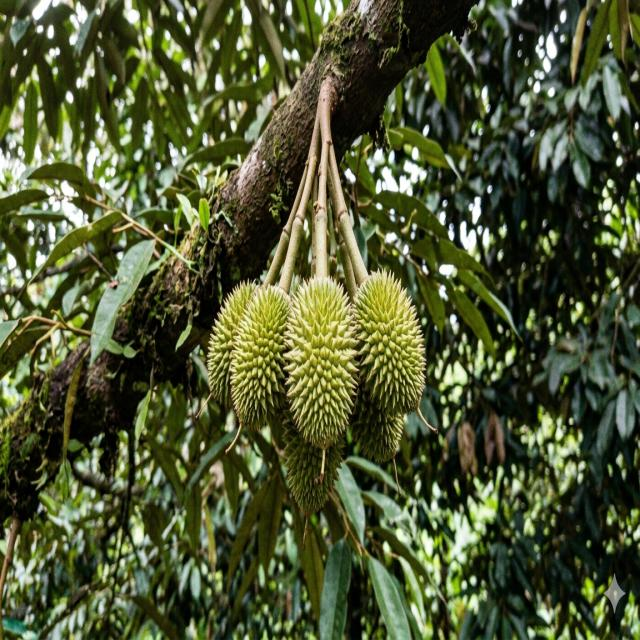immature: (347, 268, 429, 456), (280, 272, 362, 453), (228, 280, 296, 434), (208, 280, 258, 401)
